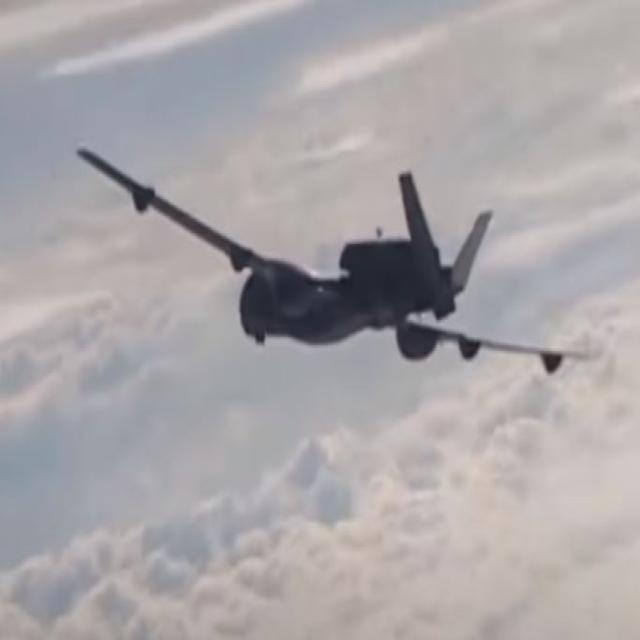iha: (77, 140, 606, 376)
